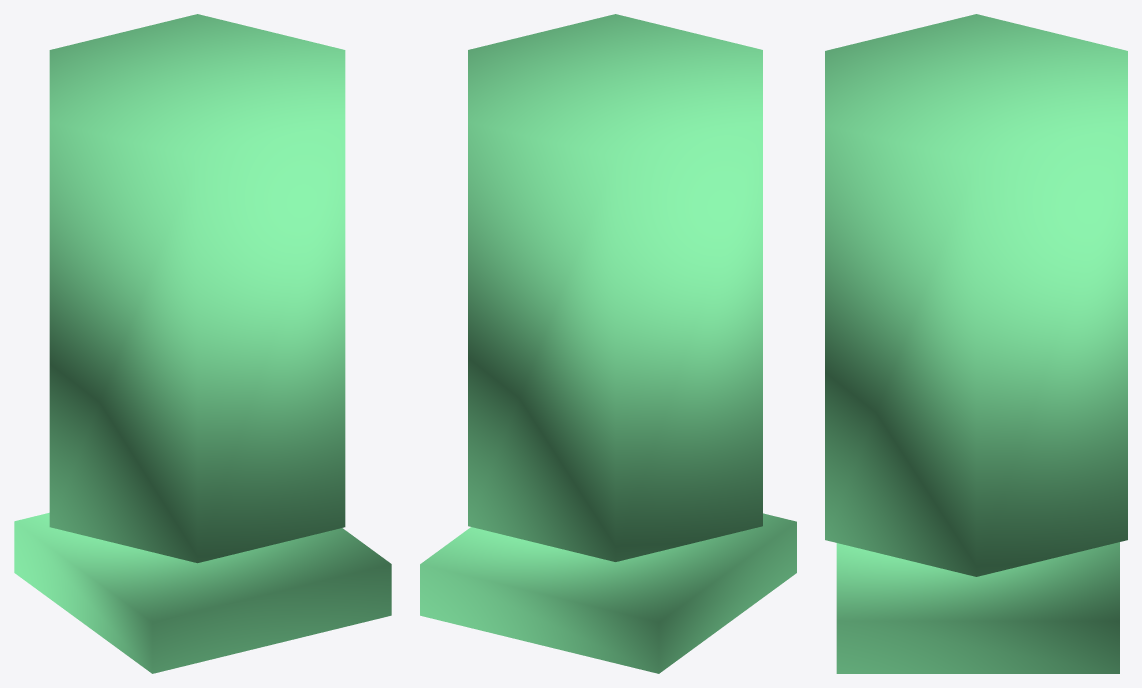
File: ps2_jrpg_ice_cave_crystal_formation.obj
The picture shows the model from 3 angles, left to right: view 1: azimuth 30°, elevation 25°; view 2: azimuth 150°, elevation 25°; view 3: azimuth 270°, elevation 25°; orthographic projection. The views are drawn at different scales.
Size of the model in its own units: 0.84 by 1.39 by 0.7275.
